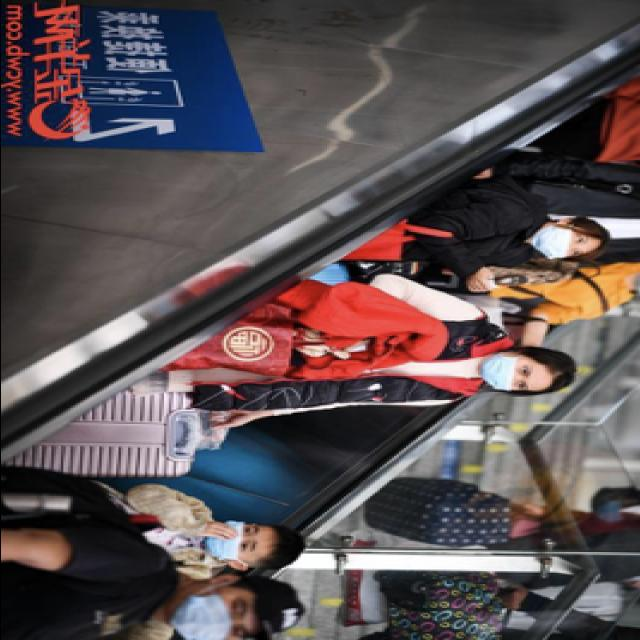mask: (168, 590, 252, 640), (204, 520, 262, 563), (530, 226, 592, 260), (482, 357, 534, 395)
